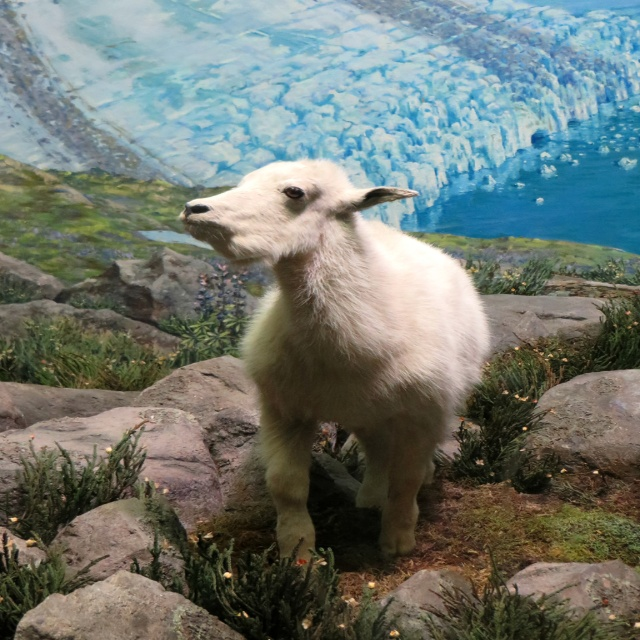Goat: (175, 176, 501, 586)
